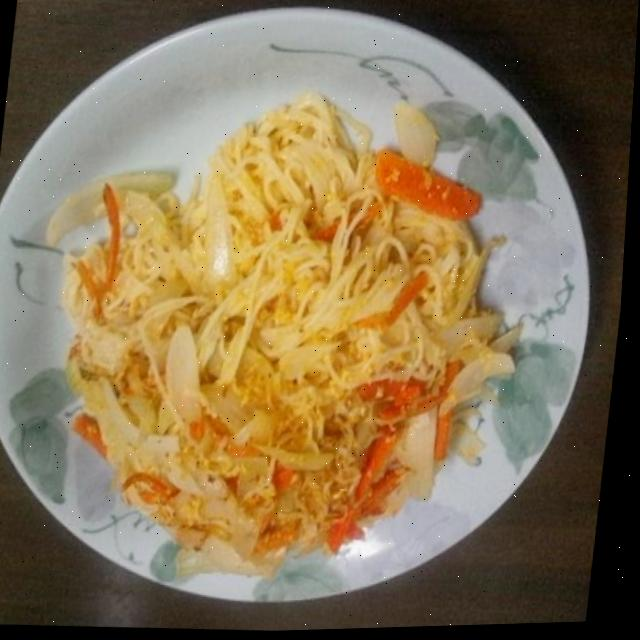面条主食: (0, 23, 625, 627)
